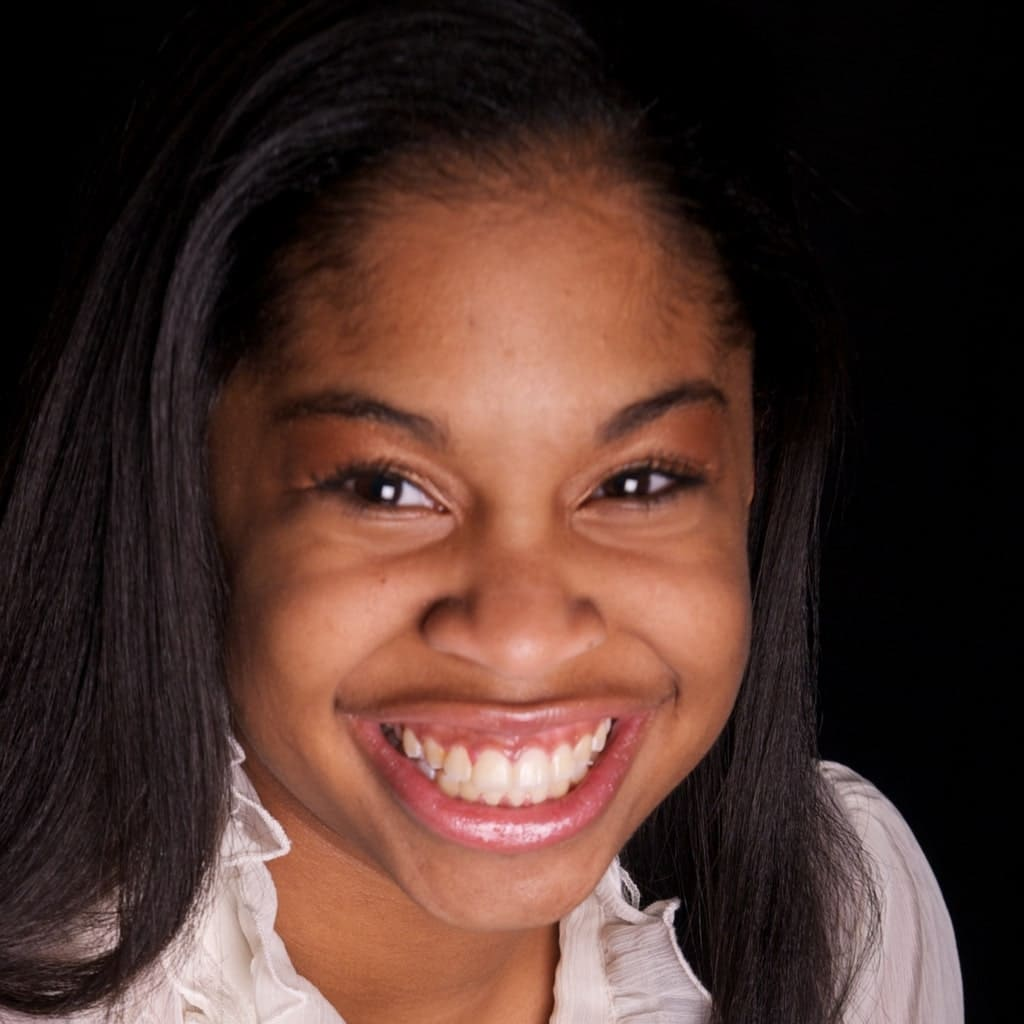without_mask: (261, 277, 723, 863)
